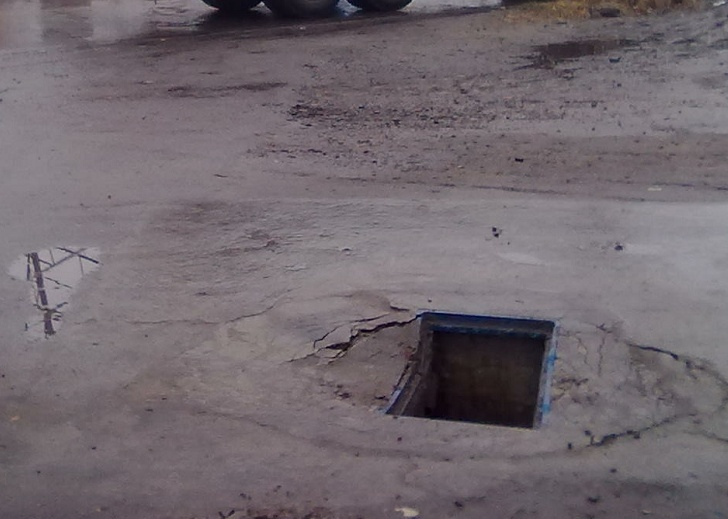lose: (383, 287, 555, 430)
